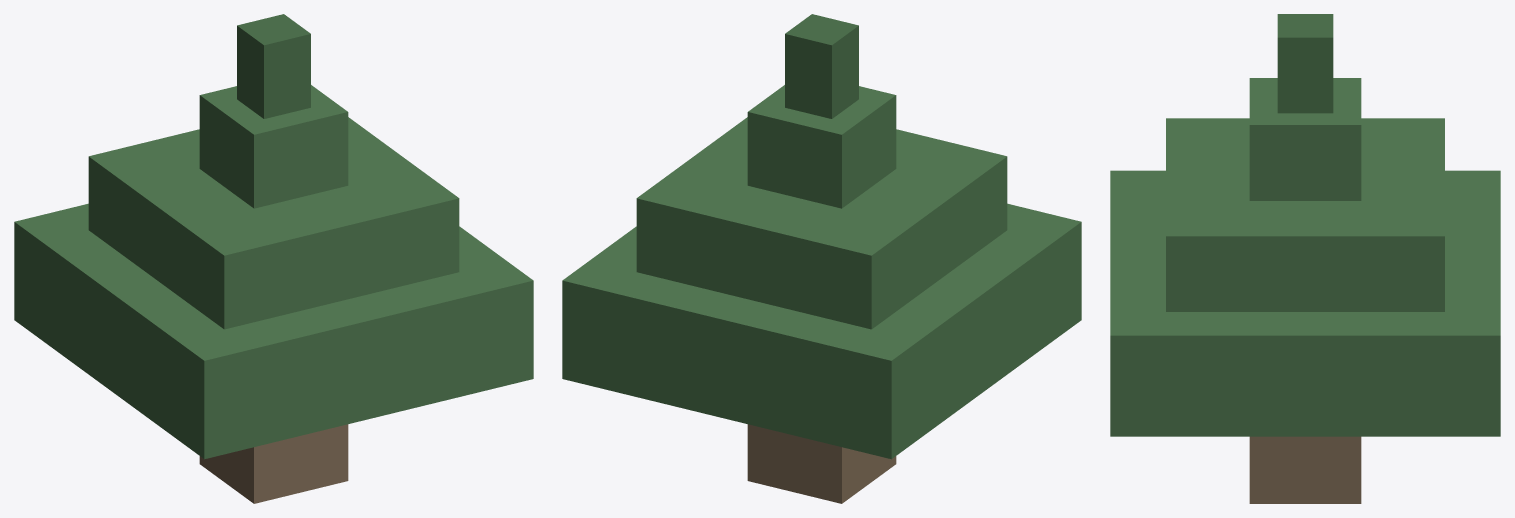
Rendered from pino_01.glb.
The picture shows the model from 3 angles, left to right: view 1: azimuth 30°, elevation 25°; view 2: azimuth 150°, elevation 25°; view 3: azimuth 270°, elevation 25°; orthographic projection. The views are drawn at different scales.
Visible parts, largest first — view 1: pino_01; view 2: pino_01; view 3: pino_01.
Part boxes in pixels (x1,y1,x2,y2): pino_01: (14, 14, 533, 503); pino_01: (562, 14, 1081, 503); pino_01: (1110, 14, 1500, 503).
Size of the model in its own units: 1.4 by 1.8 by 1.4.
